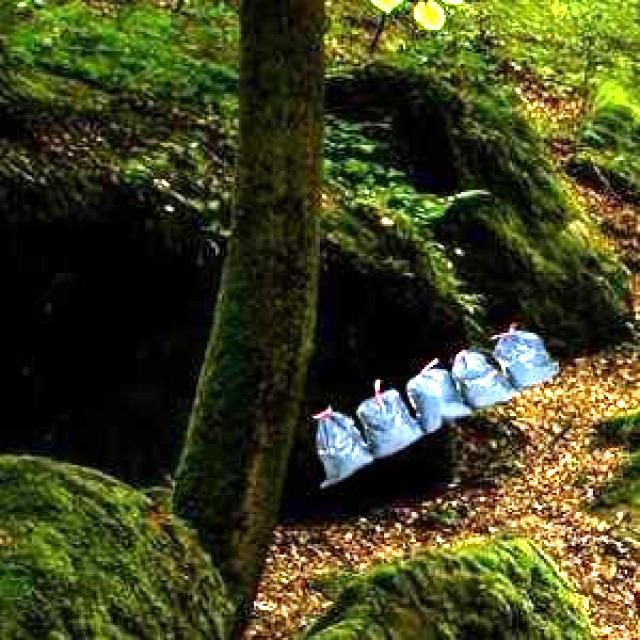Garbage_Bag: (314, 328, 556, 483)
